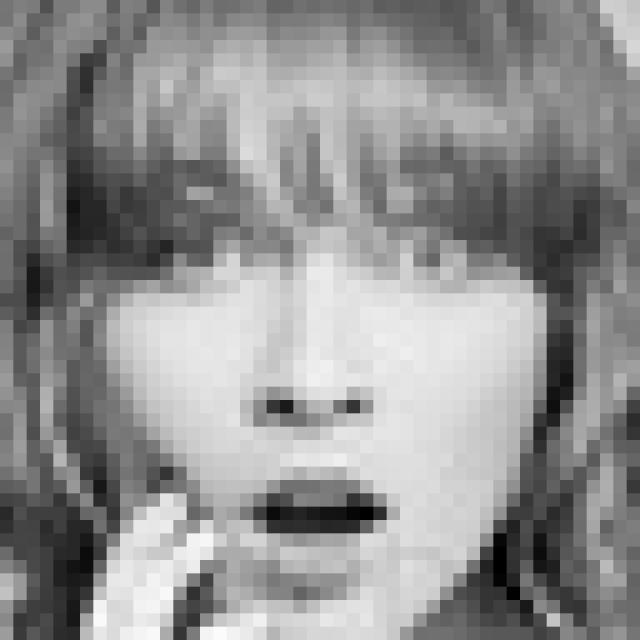surprise: (127, 149, 500, 596)
